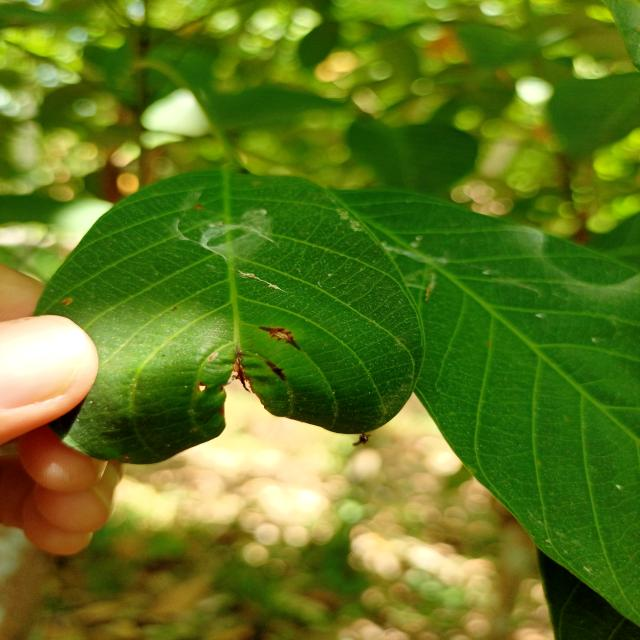Colletotrichum: (172, 307, 177, 311)
Corynespora: (259, 326, 301, 351), (266, 360, 286, 380)
